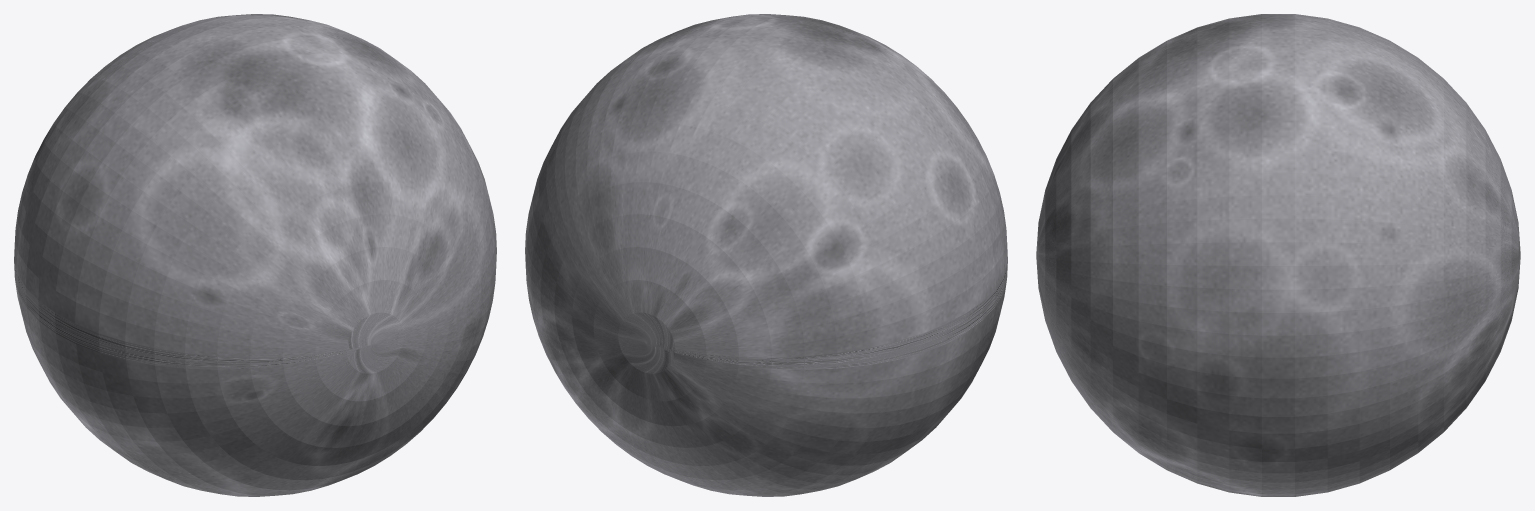
Rendered from powerquest_moon.glb.
The picture shows the model from 3 angles, left to right: view 1: azimuth 30°, elevation 25°; view 2: azimuth 150°, elevation 25°; view 3: azimuth 270°, elevation 25°; orthographic projection.
Visible parts, largest first — view 1: world; view 2: world; view 3: world.
Boxes of the visible parts, left/top/right/bottom form: world: left=14, top=14, right=496, bottom=496; world: left=525, top=14, right=1007, bottom=496; world: left=1036, top=14, right=1520, bottom=496.
Bounding box in the file's own units: 2 × 2 × 2.
Materials: 1 (1 with a texture image).
